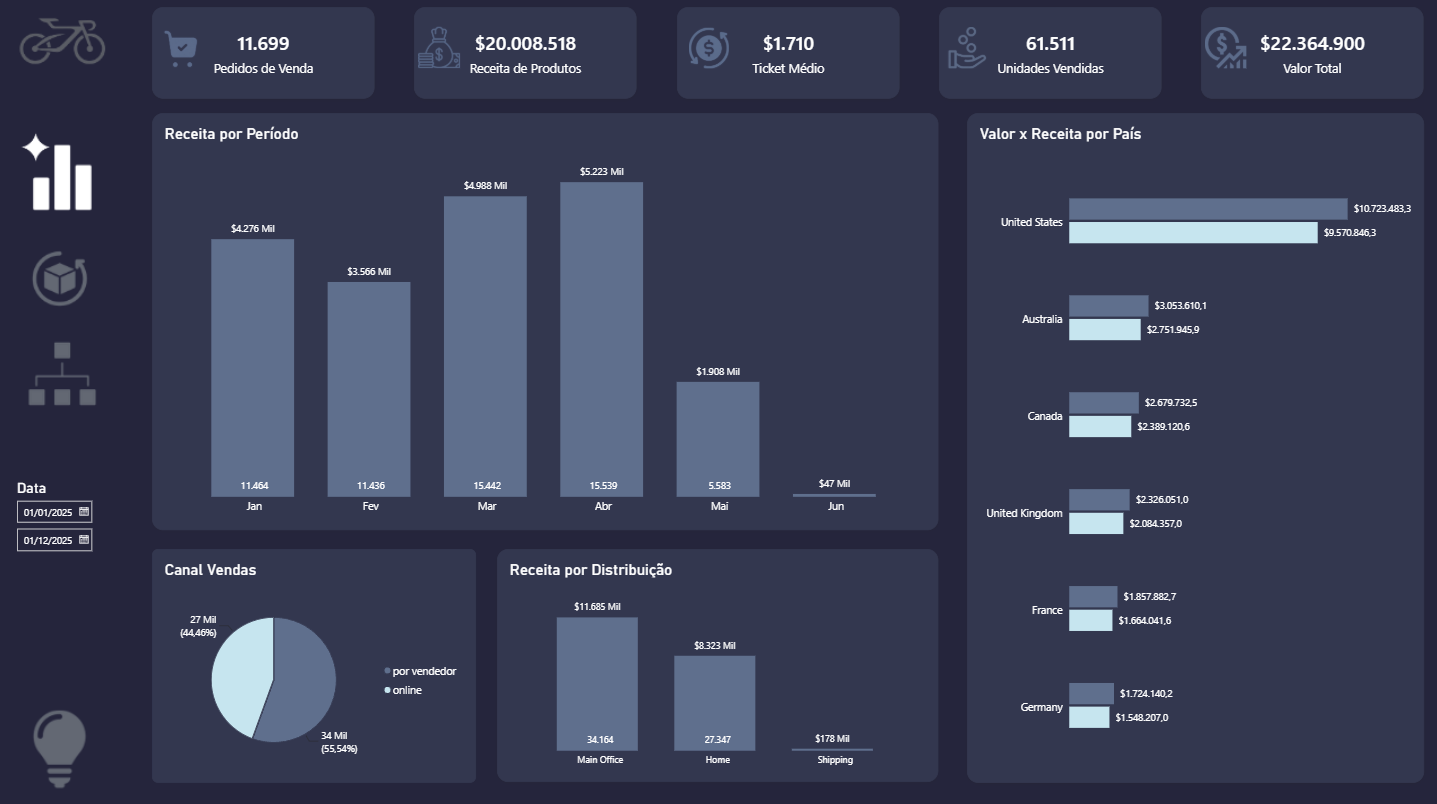

What the dashboard file says about the page in this screenshot:
{"tool":"powerbi","page":{"name":"Estatística - Dark Mode","canvas":[1920,1080],"ordinal":1},"visuals":[{"type":"lineStackedColumnComboChart","title":"Receita por Período","fields":{"Category":["dCalendário.Mês Abrev"],"Y2":["Medidas.Unidades Vendidas"],"Y":["Medidas.Receita de Produtos"]},"box":[205,156.5,1045.9,555.5],"z":0},{"type":"card","fields":{"Values":["Medidas.Valor Total dos Pedidos"]},"box":[1600,16,296.5,121.9],"z":1000},{"type":"card","fields":{"Values":["Medidas.Unidades Vendidas"]},"box":[1251.3,16.6,296.5,121.9],"z":2000},{"type":"card","fields":{"Values":["Medidas.Ticket Médio"]},"box":[902.5,16.6,296.5,121.9],"z":3000},{"type":"card","fields":{"Values":["Medidas.Receita de Produtos"]},"box":[553.8,16,296.5,121.9],"z":4000},{"type":"card","fields":{"Values":["Medidas.Pedidos de Venda"]},"box":[205,16.6,296.5,121.9],"z":5000},{"type":"clusteredBarChart","title":"Valor x Receita por País","fields":{"Y":["Medidas.Valor Total dos Pedidos","Medidas.Receita de Produtos"],"Category":["fVendas.pais_regiao"]},"box":[1288.8,156.9,607.8,891.1],"z":6000},{"type":"pieChart","title":"Canal Vendas","fields":{"Y":["Medidas.Unidades Vendidas"],"Category":["fVendas.canal_venda"]},"box":[204.8,736.8,430.9,311.2],"z":7000},{"type":"lineStackedColumnComboChart","title":"Receita por Distribuição","fields":{"Category":["fVendas.tipo_endereco"],"Y2":["Medidas.Unidades Vendidas"],"Y":["Medidas.Receita de Produtos"]},"box":[663.5,737,587.4,310.3],"z":8000},{"type":"image","box":[919.1,42.6,53.2,55.9],"z":9000},{"type":"image","box":[558.9,41.7,55.6,57],"z":11000},{"type":"image","box":[1255.6,43,66,55],"z":12000},{"type":"image","box":[208,42.6,71,57],"z":13000},{"type":"image","box":[1602,43,63,55],"z":14000},{"type":"slicer","fields":{"Values":["dCalendário.Data"]},"box":[17.3,643.7,149,190.2],"z":14001}]}

Visuals, with their boxes in screenshot pixels (x1, y1, x2, y2), scaled from the page's 1920x1080 canvas onto the 1437x804 screenshot:
"Receita por Período" lineStackedColumnComboChart: rect(153, 117, 936, 530)
card - Medidas.Valor Total dos Pedidos: rect(1198, 12, 1419, 103)
card - Medidas.Unidades Vendidas: rect(937, 12, 1158, 103)
card - Medidas.Ticket Médio: rect(675, 12, 897, 103)
card - Medidas.Receita de Produtos: rect(414, 12, 636, 103)
card - Medidas.Pedidos de Venda: rect(153, 12, 375, 103)
"Valor x Receita por País" clusteredBarChart: rect(965, 117, 1419, 780)
"Canal Vendas" pieChart: rect(153, 549, 476, 780)
"Receita por Distribuição" lineStackedColumnComboChart: rect(497, 549, 936, 780)
image: rect(688, 32, 728, 73)
image: rect(418, 31, 460, 73)
image: rect(940, 32, 989, 73)
image: rect(156, 32, 209, 74)
image: rect(1199, 32, 1246, 73)
slicer - dCalendário.Data: rect(13, 479, 124, 621)
